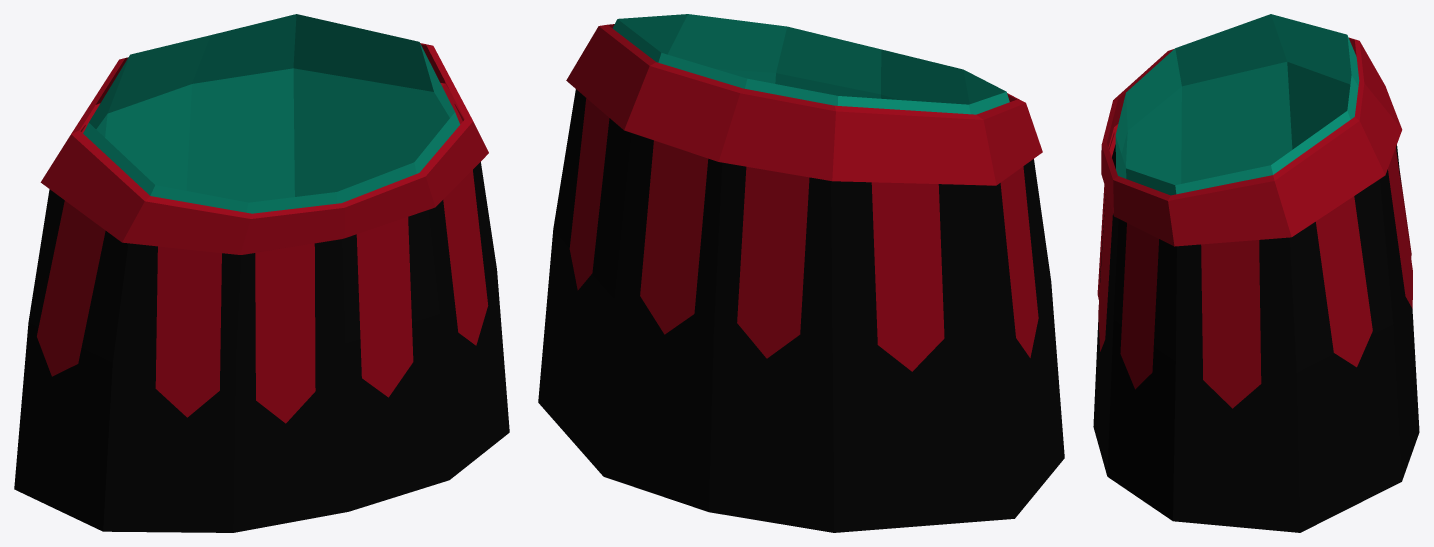
Rendered from SpaSkirt1.fbx.
3 renders of one model, left to right at view 1: azimuth 30°, elevation 25°; view 2: azimuth 150°, elevation 25°; view 3: azimuth 270°, elevation 25°, orthographic. The views are drawn at different scales.
Parts seen in each view (by area): view 1: SpaSkir.002; view 2: SpaSkir.002; view 3: SpaSkir.002.
Boxes of the visible parts, <box> form: SpaSkir.002: <box>14,14,509,532</box>; SpaSkir.002: <box>538,14,1064,532</box>; SpaSkir.002: <box>1093,14,1419,532</box>.
Bounding box in the file's own units: 46.22 × 37.8 × 31.06.
